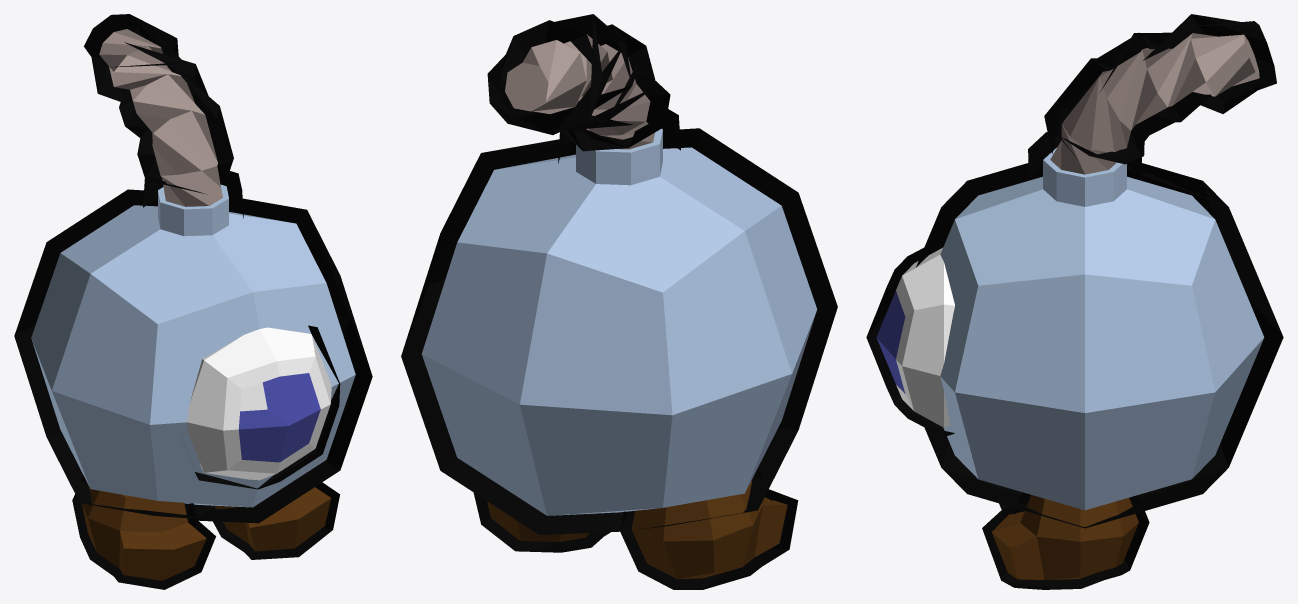
Rendered from Monster.fbx.
3 views of the same model, side by side, from view 1: azimuth 30°, elevation 25°; view 2: azimuth 150°, elevation 25°; view 3: azimuth 270°, elevation 25° (orthographic). The views are drawn at different scales.
Parts seen in each view (by area): view 1: Cube, Cube.002, Cube.001, Cube.004; view 2: Cube, Cube.001, Cube.004; view 3: Cube, Cube.004, Cube.002.
Part boxes in pixels (x1,y1,x2,y2): Cube: (14,14,372,523); Cube.002: (187,325,340,489); Cube.001: (72,475,215,589); Cube.004: (204,482,339,559); Cube: (401,14,837,534); Cube.001: (620,468,798,589); Cube.004: (473,493,610,552); Cube: (916,14,1283,528); Cube.004: (982,492,1149,589); Cube.002: (866,237,954,436).
Bounding box in the file's own units: 6133 × 9062 × 6444.
